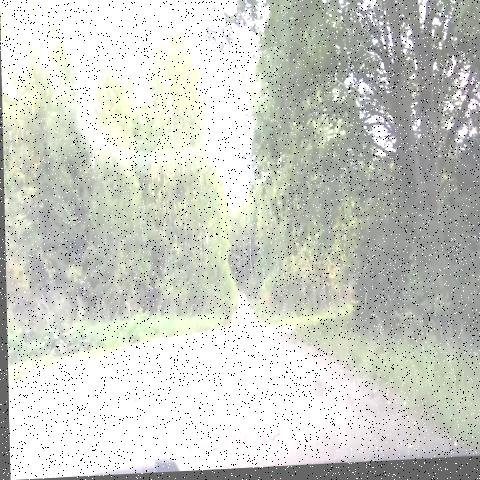pothole: (158, 405, 295, 467), (151, 355, 230, 409), (106, 369, 150, 423), (297, 364, 337, 420)
